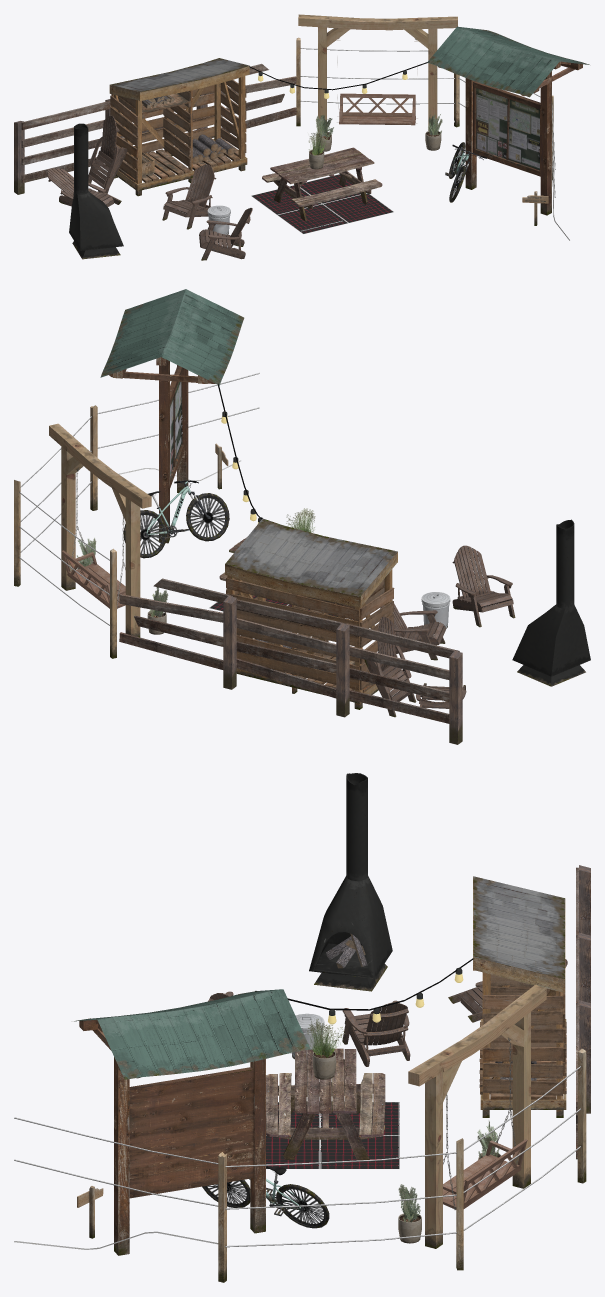
Rendered from dae_5_finished_props_-_eco_house.glb.
The picture shows the model from 3 angles, top to bottom: view 1: azimuth 30°, elevation 25°; view 2: azimuth 150°, elevation 25°; view 3: azimuth 270°, elevation 25°; orthographic projection. The views are drawn at different scales.
Visible parts, largest first — view 1: hikeboard, shed, swing, firePit, groundplane_Geo, picnicTable, woodFence_1, loungeChair_1, loungeChair_2, woodFence_3, loungeChair_3, wireFence_1 (+4 smaller); view 2: shed, hikeboard, swing, firePit, woodFence_2, woodFence_1, woodFence_3, Bike, loungeChair_3, loungeChair_2, loungeChair_1, wireFence_1 (+3 smaller); view 3: hikeboard, shed, swing, picnicTable, firePit, groundplane_Geo, loungeChair_1, Bike, wireFence_2, wireFence_3, wireFence_1, woodFence_3 (+4 smaller).
Boxes of the visible parts, <box> form: hikeboard: <box>427,26,589,215</box>; shed: <box>109,58,249,196</box>; swing: <box>298,14,457,131</box>; firePit: <box>69,123,123,259</box>; groundplane_Geo: <box>251,174,393,234</box>; picnicTable: <box>262,147,382,221</box>; woodFence_1: <box>14,101,110,194</box>; loungeChair_1: <box>162,164,216,229</box>; loungeChair_2: <box>88,115,127,193</box>; woodFence_3: <box>196,63,296,140</box>; loungeChair_3: <box>199,208,252,260</box>; wireFence_1: <box>296,37,454,126</box>; shed: <box>225,518,397,709</box>; hikeboard: <box>100,289,244,543</box>; swing: <box>49,423,151,637</box>; firePit: <box>512,519,590,686</box>; woodFence_2: <box>236,599,349,717</box>; woodFence_1: <box>346,623,462,744</box>; woodFence_3: <box>119,578,236,689</box>; Bike: <box>123,480,229,558</box>; loungeChair_3: <box>452,545,515,627</box>; loungeChair_2: <box>364,616,416,717</box>; loungeChair_1: <box>380,593,445,660</box>; wireFence_1: <box>19,492,116,658</box>; hikeboard: <box>74,989,310,1255</box>; shed: <box>473,876,566,1117</box>; swing: <box>408,985,546,1248</box>; picnicTable: <box>266,1048,385,1160</box>; firePit: <box>309,773,392,991</box>; groundplane_Geo: <box>266,1102,399,1169</box>; loungeChair_1: <box>342,1000,410,1066</box>; Bike: <box>202,1166,329,1228</box>; wireFence_2: <box>225,1138,463,1270</box>; wireFence_3: <box>14,1117,226,1282</box>; wireFence_1: <box>463,1048,586,1230</box>; woodFence_3: <box>576,1000,590,1159</box>.
Bounding box in the file's own units: 9.72 × 3.28 × 7.23.
Materials: 18 (17 with a texture image).
